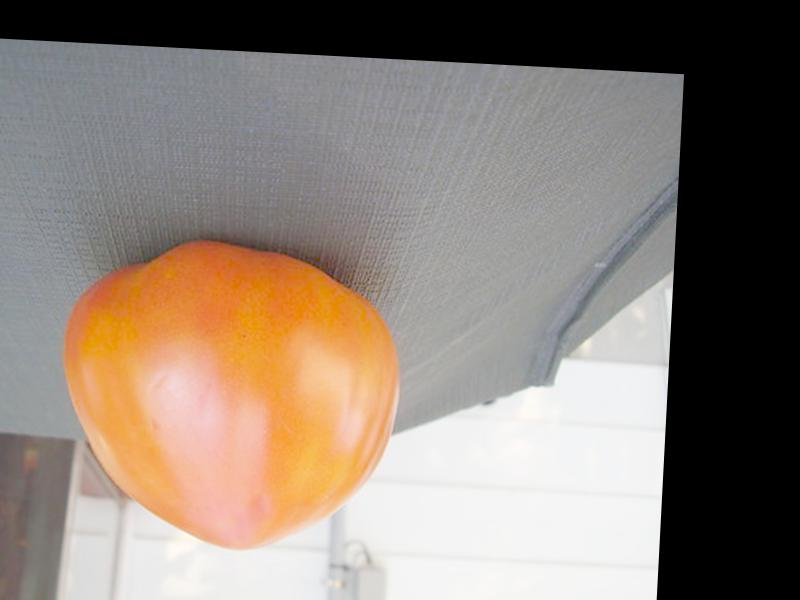Tomato: (52, 237, 406, 559)
